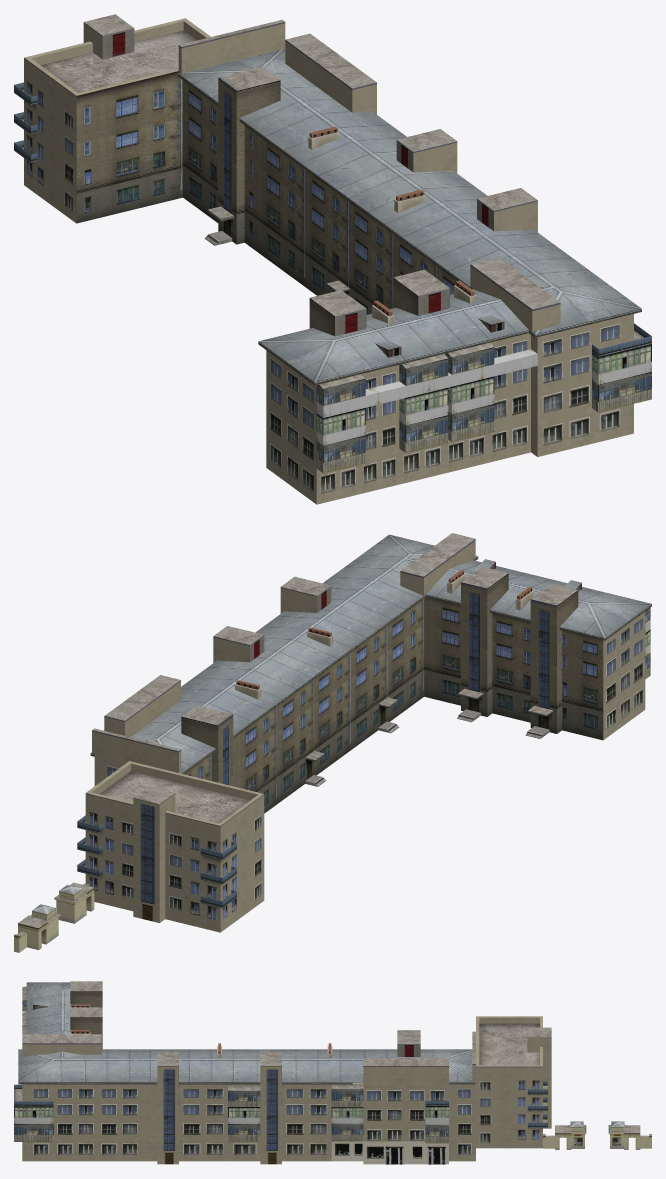
The model's file is house_31_residential.FBX.
3 renders of one model, top to bottom at view 1: azimuth 30°, elevation 25°; view 2: azimuth 150°, elevation 25°; view 3: azimuth 270°, elevation 25°, orthographic. The views are drawn at different scales.
Parts seen in each view (by area): view 1: house_31_residential; view 2: house_31_residential; view 3: house_31_residential.
Part boxes in pixels (x1=…): house_31_residential: x1=14, y1=14, x2=651, y2=504; house_31_residential: x1=14, y1=533, x2=651, y2=952; house_31_residential: x1=14, y1=981, x2=651, y2=1164.
Bounding box in the file's own units: 37.69 × 16.64 × 97.82.
